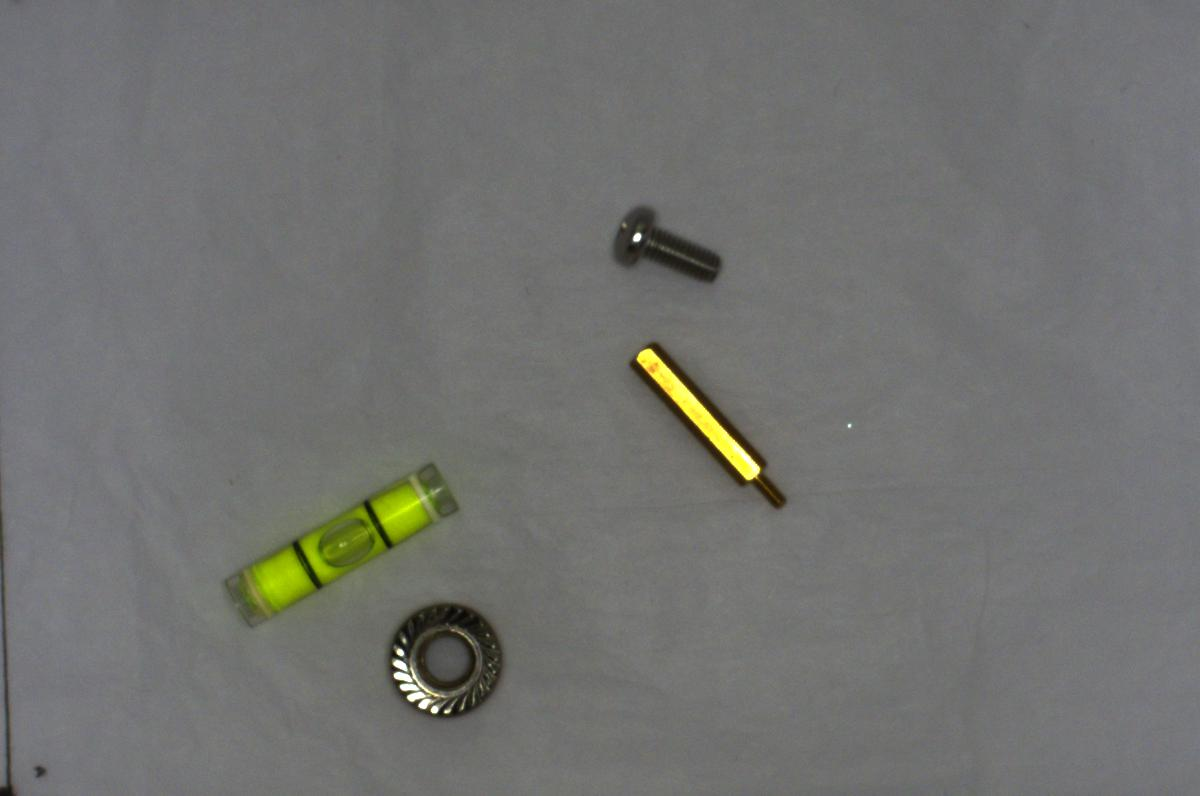Flange nut: (390, 593, 517, 722)
Hexagon pillar: (624, 335, 802, 516)
Horizontal bubble: (220, 448, 460, 628)
Round head screw: (605, 196, 722, 292)
